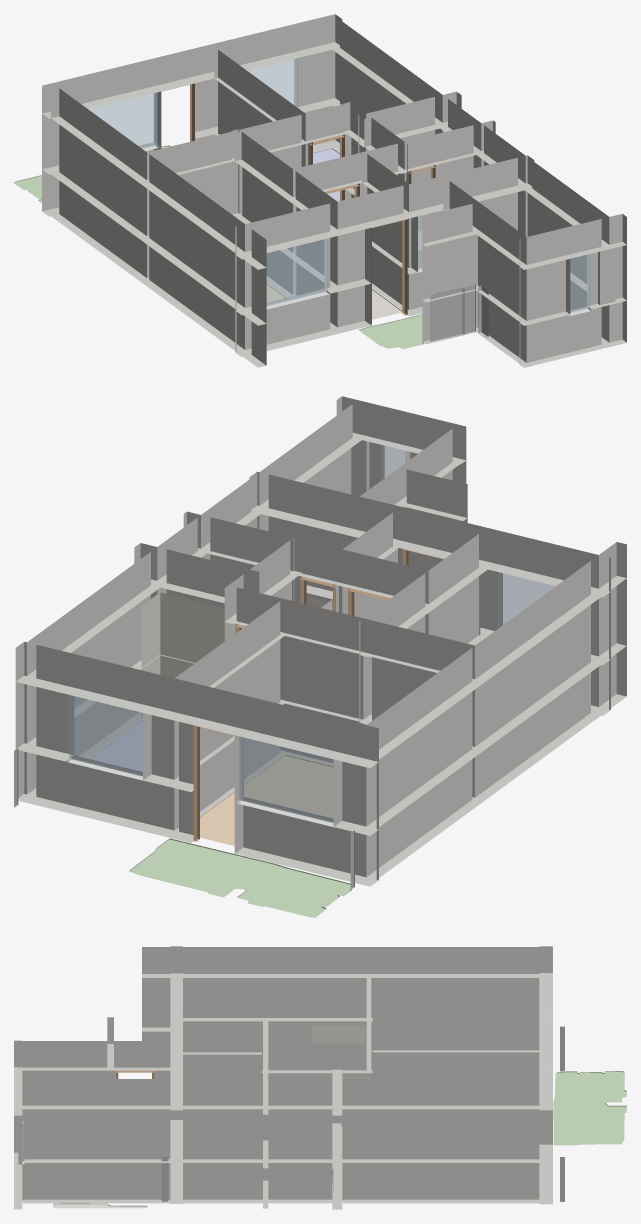
The picture shows the model from 3 angles, top to bottom: view 1: azimuth 30°, elevation 25°; view 2: azimuth 150°, elevation 25°; view 3: azimuth 270°, elevation 25°; orthographic projection. The views are drawn at different scales.
Parts seen in each view (by area): view 1: walls, window_4, railings, window_2, floor_9_Outdoor, window_0, window_11, door_3, floor_5_Entry; view 2: walls, floor_8_Outdoor, window_2, furniture_0_closet, floor_0_Living_Room, window_0, window_4, floor_1_Bed_Room, door_1; view 3: walls, floor_8_Outdoor, furniture_1_closet, railings, floor_10_Undefined.
Boxes of the visible parts, <box> form: walls: <box>42,14,626,367</box>; window_4: <box>266,238,327,305</box>; railings: <box>430,284,488,341</box>; window_2: <box>85,92,157,148</box>; floor_9_Outdoor: <box>359,314,423,349</box>; window_0: <box>247,58,297,107</box>; window_11: <box>570,254,589,312</box>; door_3: <box>371,219,407,323</box>; floor_5_Entry: <box>372,289,402,319</box>; walls: <box>15,396,626,886</box>; floor_8_Outdoor: <box>129,838,351,917</box>; window_2: <box>239,736,335,822</box>; furniture_0_closet: <box>141,592,224,718</box>; floor_0_Living_Room: <box>200,755,333,845</box>; window_0: <box>69,691,147,776</box>; window_4: <box>498,568,555,627</box>; floor_1_Bed_Room: <box>89,720,142,771</box>; door_1: <box>193,725,234,841</box>; walls: <box>14,946,552,1209</box>; floor_8_Outdoor: <box>553,1071,626,1145</box>; furniture_1_closet: <box>311,1025,365,1043</box>; railings: <box>161,1026,564,1201</box>; floor_10_Undefined: <box>53,1203,147,1208</box>.
Bounding box in the file's own units: 6.84 × 2.72 × 12.42.
